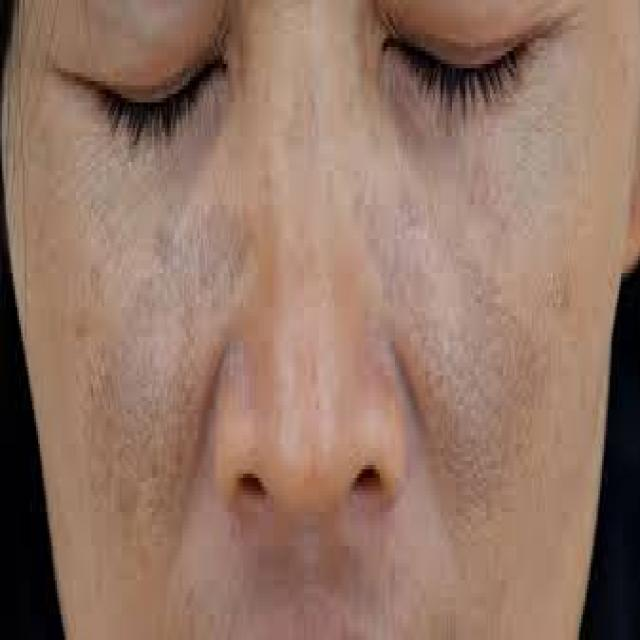pigmentation: (382, 211, 548, 487), (146, 202, 244, 304)
